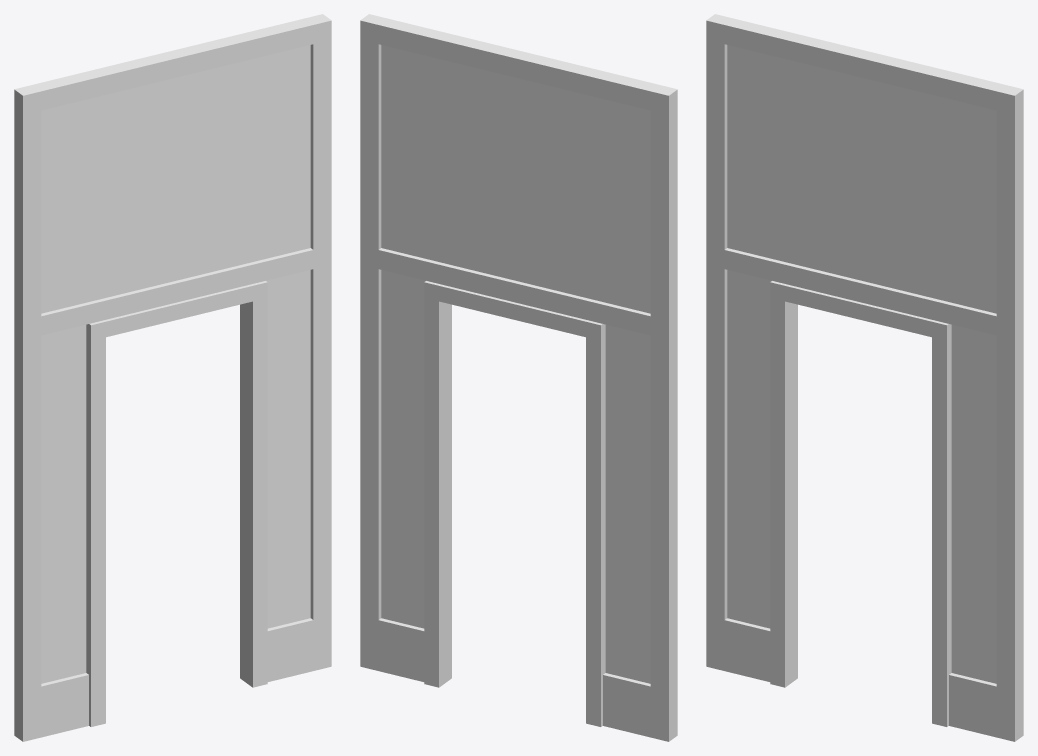
Rendered from wall_016.fbx.
3 renders of one model, left to right at view 1: azimuth 30°, elevation 25°; view 2: azimuth 150°, elevation 25°; view 3: azimuth 330°, elevation 25°, orthographic.
Visible parts, largest first — view 1: wall_016; view 2: wall_016; view 3: wall_016.
Part boxes in pixels (x1,y1,x2,y2): wall_016: [14, 14, 331, 741]; wall_016: [360, 14, 677, 741]; wall_016: [706, 14, 1023, 741].
Size of the model in its own units: 200 by 14.38 by 400.
